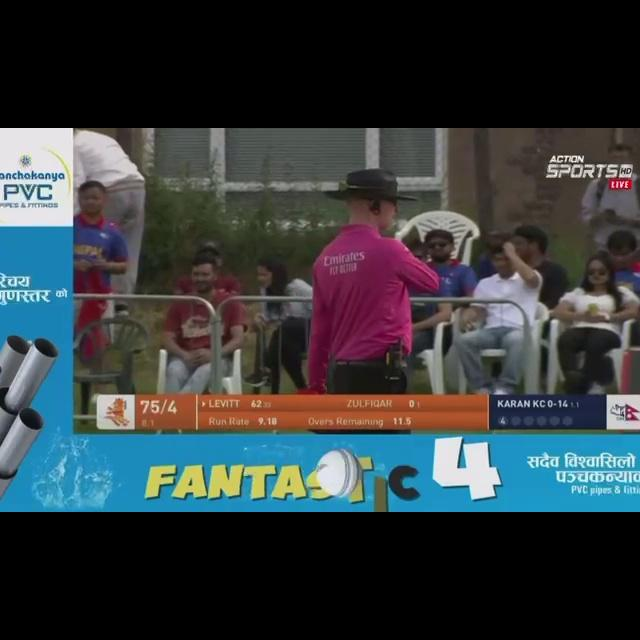umpire: (250, 140, 476, 382)
